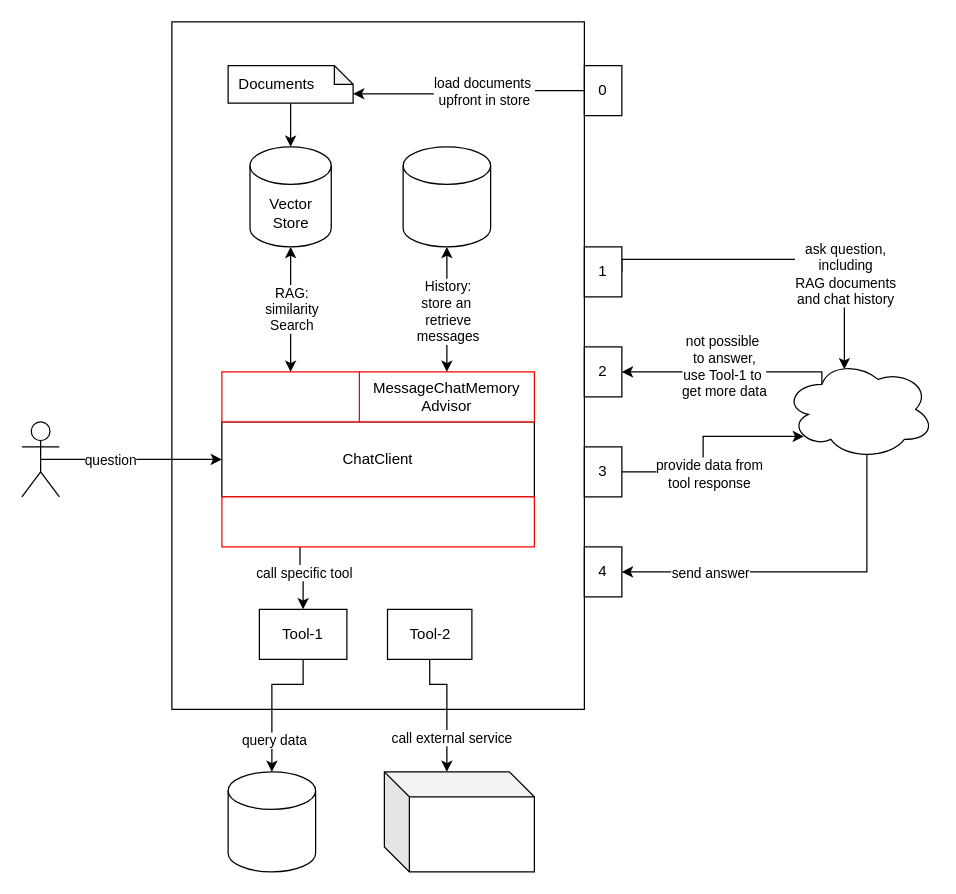
The diagram is 956 pixels wide and 894 high, and some of its shapes have lost their labels. Here are the shapes that lost their labels. From the top down, the centre of each, then its label:
At (446,196): "Chat Mem".
At (290,396): "QuestionAnswer Advisor".
At (858,408): "AI-Model".
At (377,521): "Tools".
At (271,821): "DB".
At (458,821): "Service".
